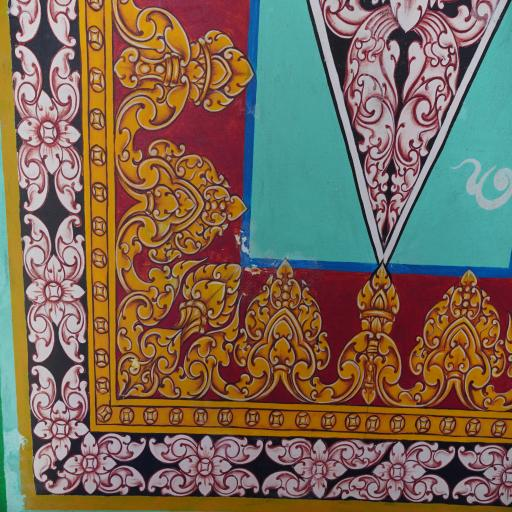hoa: (13, 81, 83, 177), (22, 244, 86, 332), (26, 392, 89, 463), (375, 433, 428, 504), (293, 434, 349, 495), (178, 433, 232, 496), (63, 428, 112, 495), (483, 440, 511, 512)
la: (111, 237, 237, 402), (225, 241, 336, 408), (112, 141, 254, 268), (394, 4, 460, 254), (409, 259, 511, 420), (346, 2, 397, 258), (315, 0, 385, 55), (377, 0, 449, 39), (46, 49, 83, 122), (52, 145, 89, 218), (450, 0, 498, 55), (12, 145, 48, 218), (54, 202, 84, 278), (11, 45, 42, 117), (258, 423, 311, 465), (328, 429, 384, 468), (215, 428, 268, 469), (99, 422, 148, 464), (28, 355, 58, 423), (330, 470, 390, 504), (58, 352, 89, 417), (54, 297, 84, 364), (99, 456, 145, 498), (406, 436, 454, 476), (144, 425, 199, 459), (22, 208, 49, 276), (26, 301, 54, 364), (42, 0, 77, 50), (264, 462, 306, 502), (408, 465, 448, 506), (149, 462, 192, 500), (212, 469, 259, 503), (453, 469, 497, 505), (8, 0, 42, 46), (454, 442, 500, 473), (35, 435, 54, 487), (48, 458, 74, 496)
lua: (109, 0, 261, 146), (337, 263, 414, 409)
